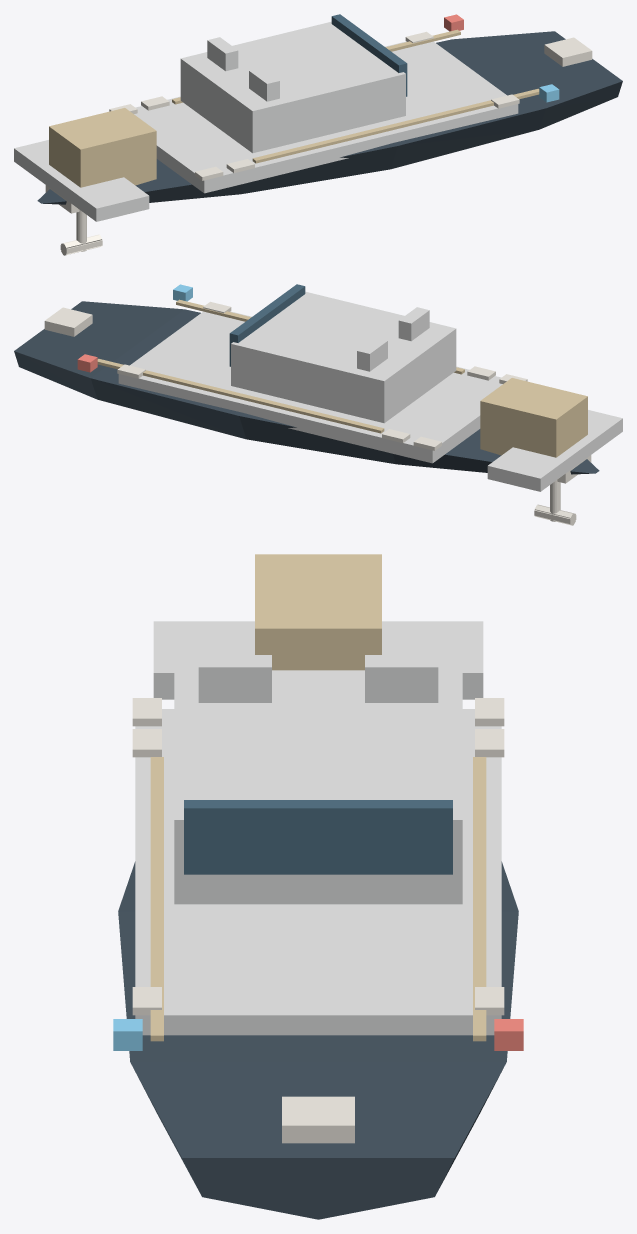
The model's file is tidal_gt_luxury.glb.
The picture shows the model from 3 angles, top to bottom: view 1: azimuth 30°, elevation 25°; view 2: azimuth 150°, elevation 25°; view 3: azimuth 270°, elevation 25°; orthographic projection. The views are drawn at different scales.
Visible parts, largest first — view 1: 02_Sculpted_cockpit_pod, 00_Sculpted_V_planing_hull, 01_Upper_deck, 17_High_performance_engine_cowl, 26_Stern_swim_platform, 10_Racing_pinstripe, 03_Tinted_panoramic_windshield, 23_Bow_cleat, 05_Seat_back, 07_Seat_back, 09_Racing_pinstripe, 19_Drive_shaft; view 2: 02_Sculpted_cockpit_pod, 00_Sculpted_V_planing_hull, 01_Upper_deck, 17_High_performance_engine_cowl, 26_Stern_swim_platform, 09_Racing_pinstripe, 03_Tinted_panoramic_windshield, 23_Bow_cleat, 07_Seat_back, 05_Seat_back, 10_Racing_pinstripe, 19_Drive_shaft; view 3: 00_Sculpted_V_planing_hull, 01_Upper_deck, 02_Sculpted_cockpit_pod, 03_Tinted_panoramic_windshield, 17_High_performance_engine_cowl, 26_Stern_swim_platform, 09_Racing_pinstripe, 10_Racing_pinstripe, 05_Seat_back, 07_Seat_back, 23_Bow_cleat, 24_Navigation_light (+1 smaller).
Part boxes in pixels (bbox=[...]): 02_Sculpted_cockpit_pod: bbox=[180, 21, 405, 153]; 00_Sculpted_V_planing_hull: bbox=[37, 31, 622, 204]; 01_Upper_deck: bbox=[134, 41, 518, 193]; 17_High_performance_engine_cowl: bbox=[49, 108, 156, 187]; 26_Stern_swim_platform: bbox=[14, 140, 149, 221]; 10_Racing_pinstripe: bbox=[252, 88, 539, 163]; 03_Tinted_panoramic_windshield: bbox=[331, 14, 407, 96]; 23_Bow_cleat: bbox=[544, 37, 592, 66]; 05_Seat_back: bbox=[207, 37, 238, 71]; 07_Seat_back: bbox=[249, 67, 279, 101]; 09_Racing_pinstripe: bbox=[172, 29, 460, 104]; 19_Drive_shaft: bbox=[76, 210, 86, 251]; 02_Sculpted_cockpit_pod: bbox=[231, 291, 456, 423]; 00_Sculpted_V_planing_hull: bbox=[14, 301, 599, 474]; 01_Upper_deck: bbox=[118, 311, 502, 463]; 17_High_performance_engine_cowl: bbox=[480, 378, 587, 457]; 26_Stern_swim_platform: bbox=[487, 410, 622, 491]; 09_Racing_pinstripe: bbox=[97, 358, 384, 433]; 03_Tinted_panoramic_windshield: bbox=[229, 284, 305, 366]; 23_Bow_cleat: bbox=[44, 307, 92, 336]; 07_Seat_back: bbox=[398, 307, 429, 341]; 05_Seat_back: bbox=[357, 337, 387, 371]; 10_Racing_pinstripe: bbox=[176, 299, 464, 374]; 19_Drive_shaft: bbox=[550, 480, 560, 521]; 00_Sculpted_V_planing_hull: bbox=[118, 861, 518, 1219]; 01_Upper_deck: bbox=[135, 709, 501, 1035]; 02_Sculpted_cockpit_pod: bbox=[174, 670, 462, 904]; 03_Tinted_panoramic_windshield: bbox=[184, 800, 452, 874]; 17_High_performance_engine_cowl: bbox=[255, 554, 381, 670]; 26_Stern_swim_platform: bbox=[153, 621, 483, 699]; 09_Racing_pinstripe: bbox=[473, 757, 486, 1041]; 10_Racing_pinstripe: bbox=[150, 757, 163, 1041]; 05_Seat_back: bbox=[365, 655, 438, 702]; 07_Seat_back: bbox=[198, 655, 271, 702]; 23_Bow_cleat: bbox=[282, 1096, 354, 1143]; 24_Navigation_light: bbox=[494, 1019, 523, 1050].
Size of the model in its own units: 5.19 by 1.36 by 1.68.
